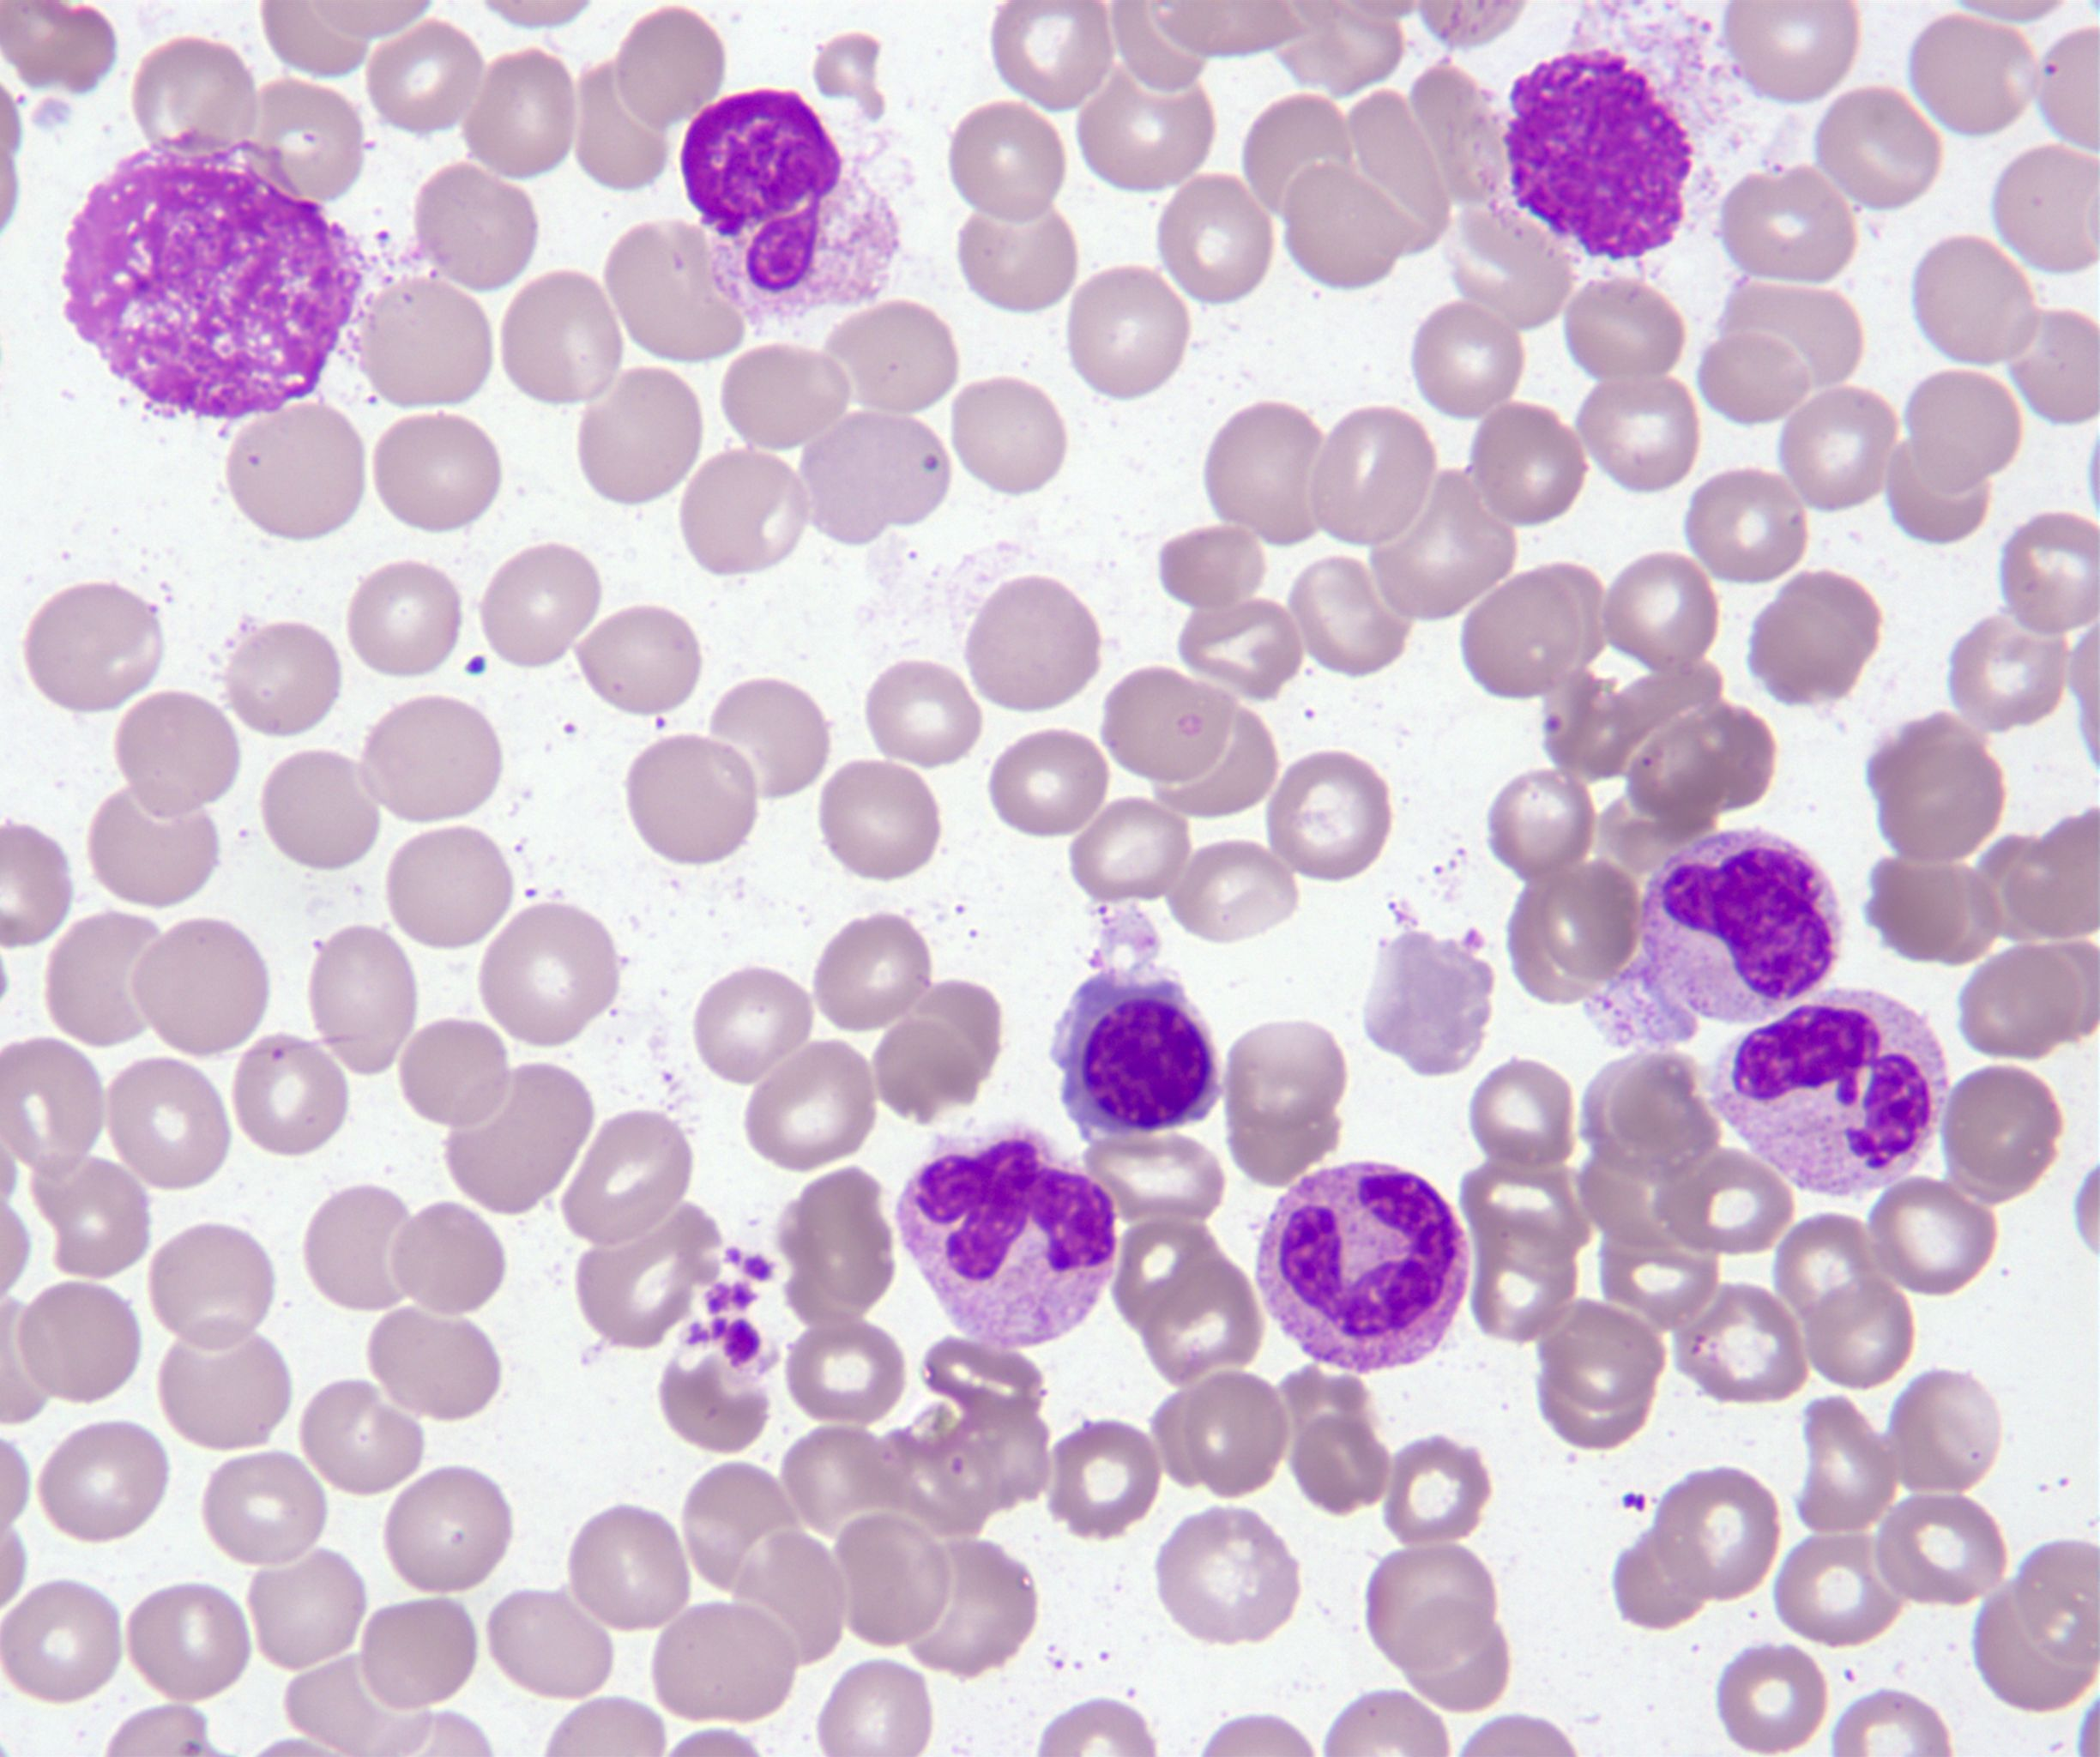23: (1052, 968, 1221, 1146)
5: (1258, 1162, 1470, 1370), (1643, 829, 1840, 1022)
6: (897, 1124, 1115, 1349), (1713, 989, 1947, 1195)
x: (61, 133, 359, 419), (680, 91, 897, 332), (1507, 49, 1688, 262)
